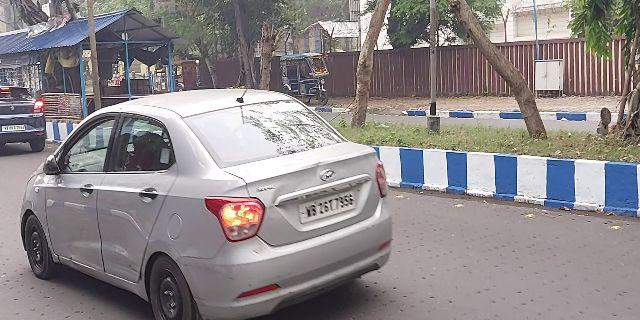Car: (31, 87, 401, 310), (1, 85, 50, 150)
